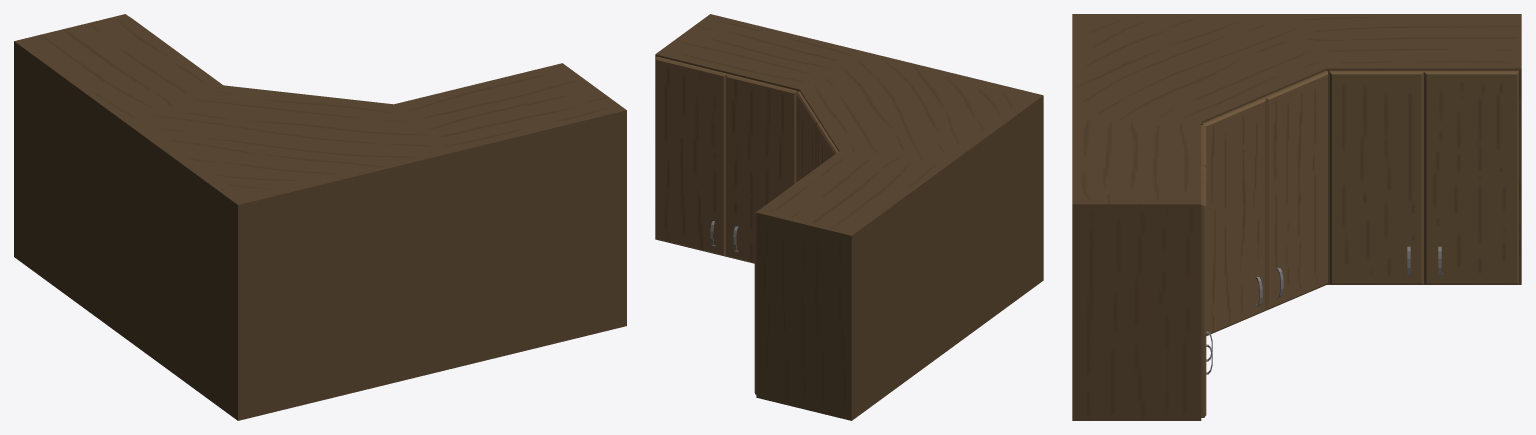
The model's file is 90DegreesUpperCabinet.fbx.
3 renders of one model, left to right at view 1: azimuth 30°, elevation 25°; view 2: azimuth 150°, elevation 25°; view 3: azimuth 270°, elevation 25°, orthographic. The views are drawn at different scales.
Parts seen in each view (by area): view 1: 90degrees uppercabinet.001; view 2: 90degrees uppercabinet.001; view 3: 90degrees uppercabinet.001.
Part boxes in pixels (<box>): 90degrees uppercabinet.001: <box>14,14,626,420</box>; 90degrees uppercabinet.001: <box>655,14,1043,420</box>; 90degrees uppercabinet.001: <box>1072,14,1521,420</box>.
Bounding box in the file's own units: 205 × 109 × 205.
Materials: 1 (1 with a texture image).
